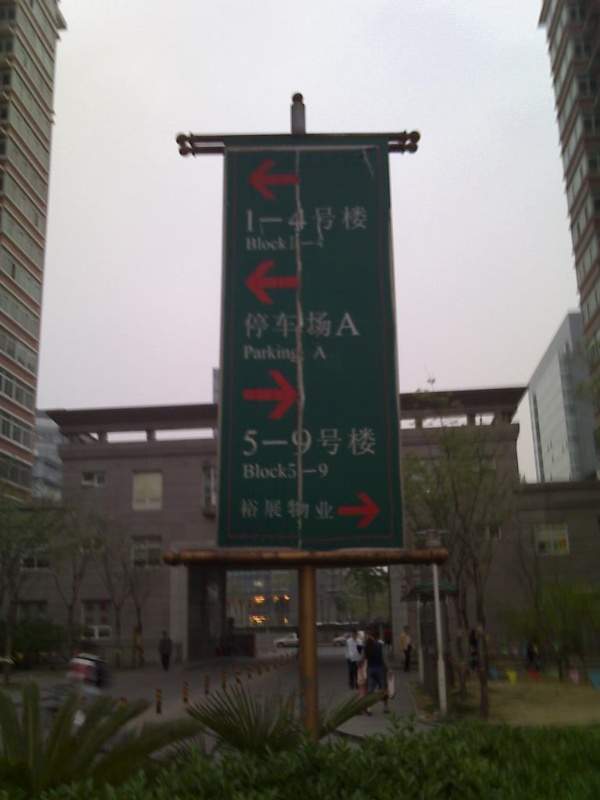text: (241, 426, 256, 458), (257, 426, 272, 458), (273, 426, 288, 458), (289, 426, 304, 458), (305, 426, 320, 458), (321, 426, 336, 458), (337, 426, 352, 458), (353, 426, 368, 458), (257, 311, 272, 340), (273, 311, 288, 340), (289, 311, 304, 340), (305, 311, 320, 340), (321, 311, 336, 340), (337, 311, 352, 340), (353, 206, 369, 233), (257, 206, 272, 233), (273, 206, 288, 233), (289, 206, 304, 233), (305, 206, 320, 233), (321, 206, 336, 233), (337, 206, 352, 233), (243, 311, 256, 340), (241, 497, 256, 522), (257, 497, 272, 522), (273, 497, 288, 522), (289, 497, 304, 522), (305, 497, 320, 522), (321, 497, 336, 522), (369, 426, 379, 458), (257, 233, 272, 254), (273, 233, 288, 254), (289, 233, 304, 254), (305, 233, 320, 254), (257, 345, 272, 365), (273, 345, 288, 365), (289, 345, 304, 365), (353, 311, 363, 340), (257, 462, 272, 481), (273, 462, 288, 481), (289, 462, 304, 481), (305, 462, 320, 481), (243, 345, 256, 365), (243, 462, 256, 481), (247, 206, 256, 233), (246, 233, 256, 254), (321, 462, 330, 481), (321, 233, 326, 254), (313, 346, 320, 360), (321, 346, 326, 360)
